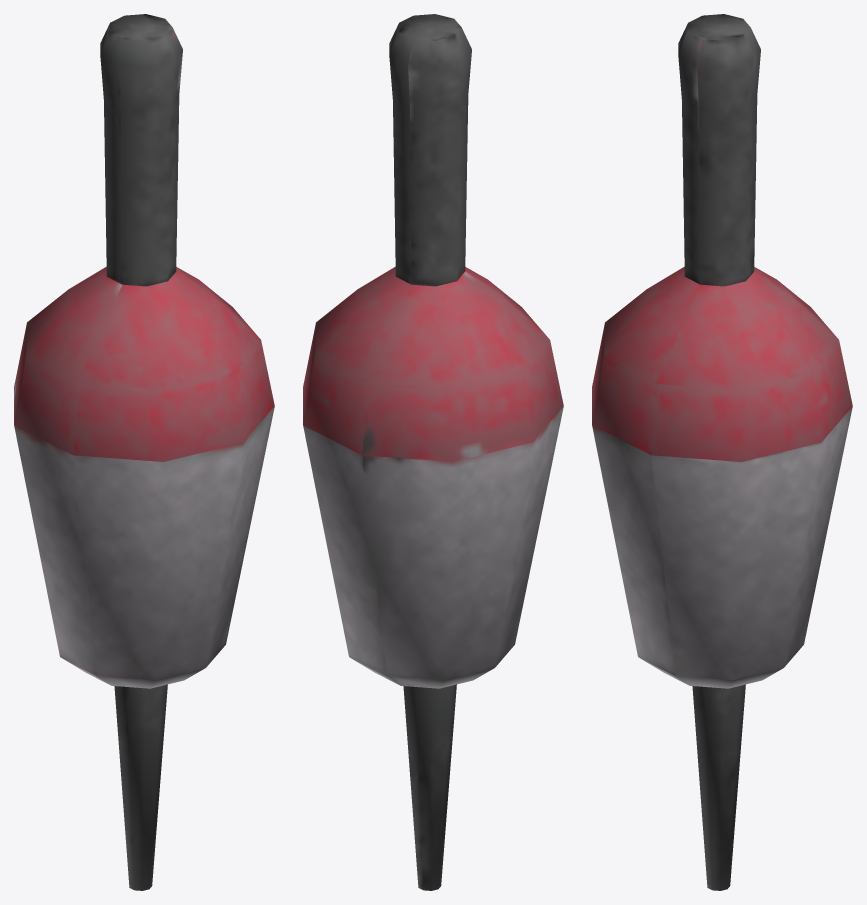
The model's file is rodbobber.fbx.
The picture shows the model from 3 angles, left to right: view 1: azimuth 30°, elevation 25°; view 2: azimuth 150°, elevation 25°; view 3: azimuth 270°, elevation 25°; orthographic projection.
Visible parts, largest first — view 1: Cylinder; view 2: Cylinder; view 3: Cylinder.
Part boxes in pixels (box(x1,y1,x2,y2)): Cylinder: box(14, 14, 274, 890); Cylinder: box(303, 14, 563, 890); Cylinder: box(592, 14, 852, 890).
Bounding box in the file's own units: 53.04 × 190 × 52.23.
Materials: 1 (1 with a texture image).
